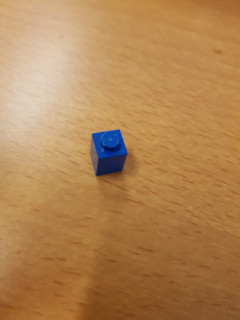1x1 blue: (90, 129, 128, 177)
